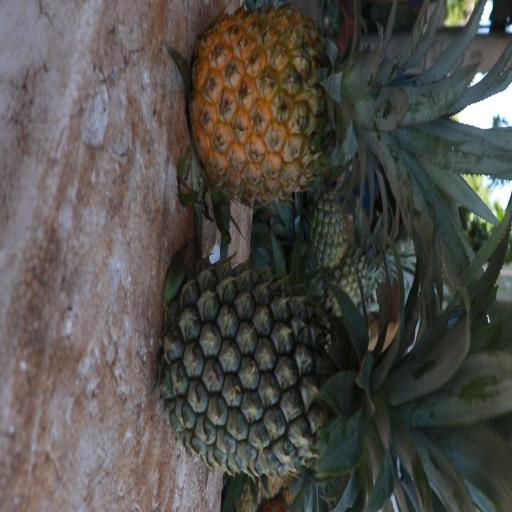Pineapple - v8 v1: (196, 15, 481, 200)
